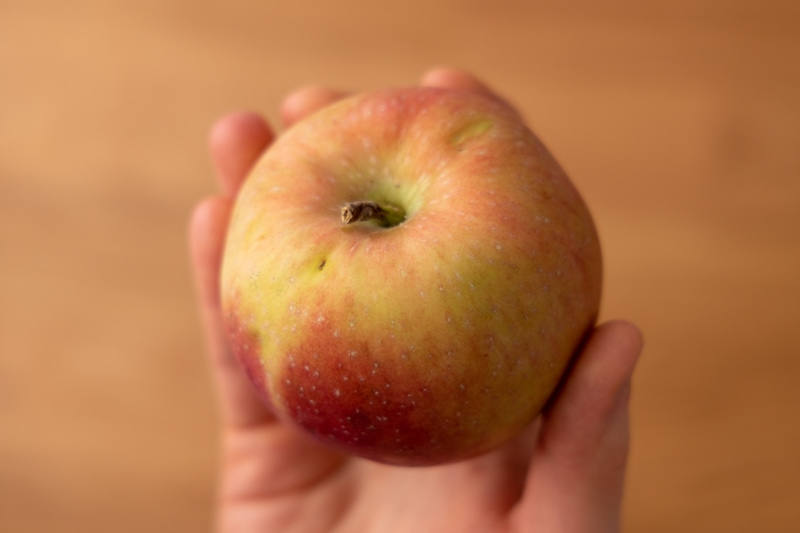apple: (217, 86, 605, 469)
